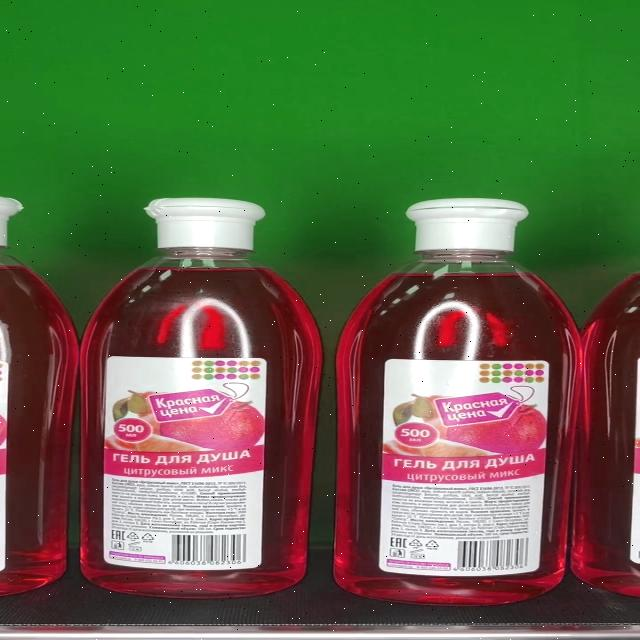Bottle: (333, 198, 581, 604), (78, 198, 323, 598)
Cap: (404, 198, 528, 251), (147, 198, 266, 249)
